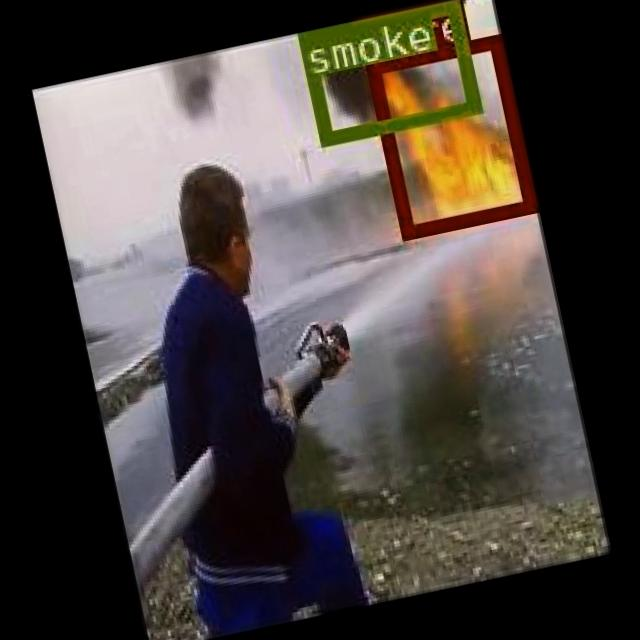fire: (362, 33, 534, 239)
smoke: (293, 0, 479, 145)
